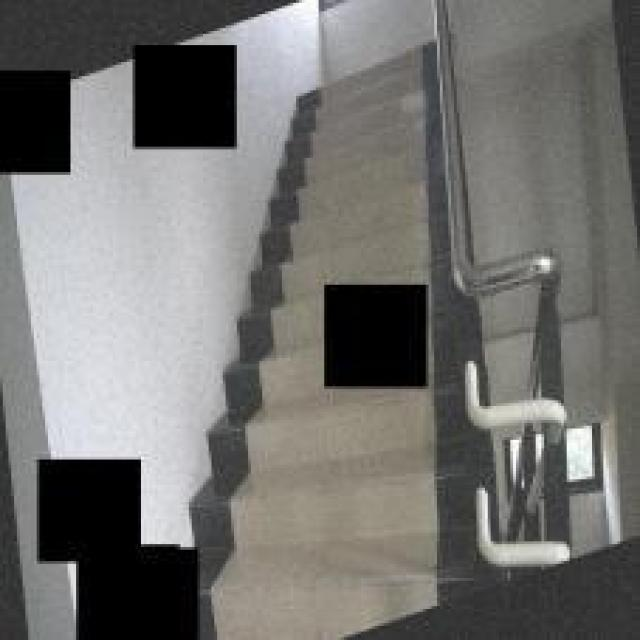upstair: (311, 63, 438, 260)
